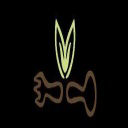fork: (20, 64, 63, 107)
